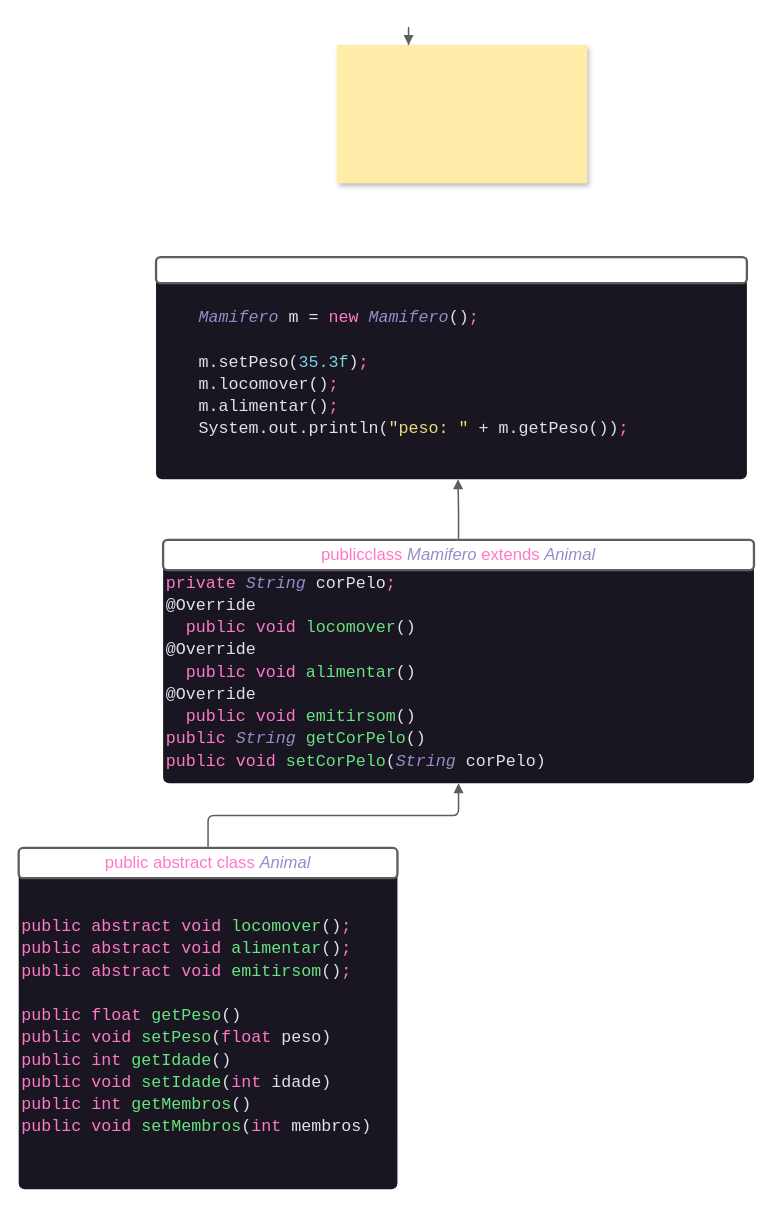
Image size: 773x1208. Some labels were removed from this diagram. Here are the shapes that lost their labels. From the top down, the centre of each, then its label:
the point at 462,115: RESOLUÇÃO (DIAGRAMA DE CLASSES):
the point at 451,269: public class ani
